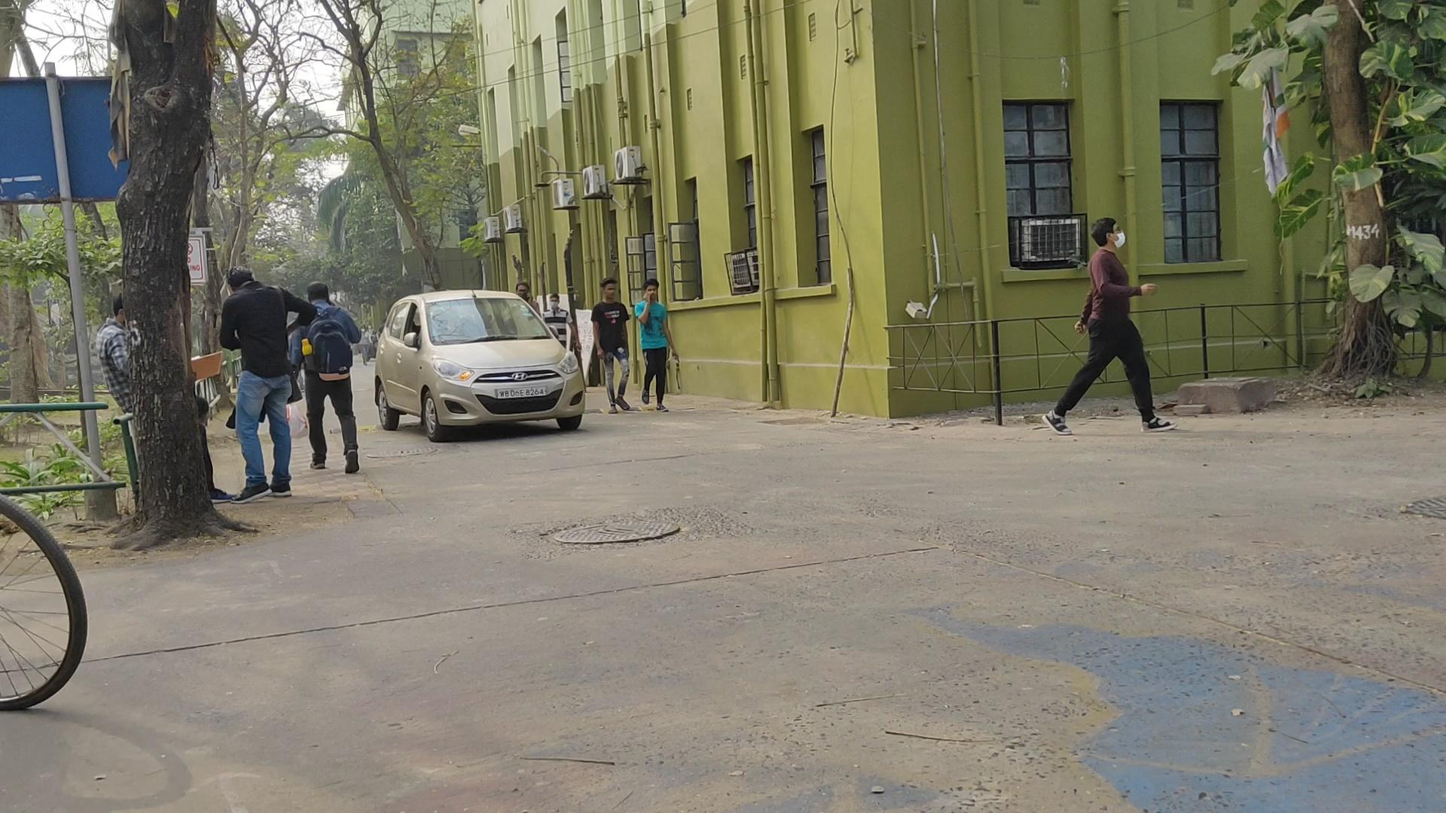car: (373, 290, 586, 443)
